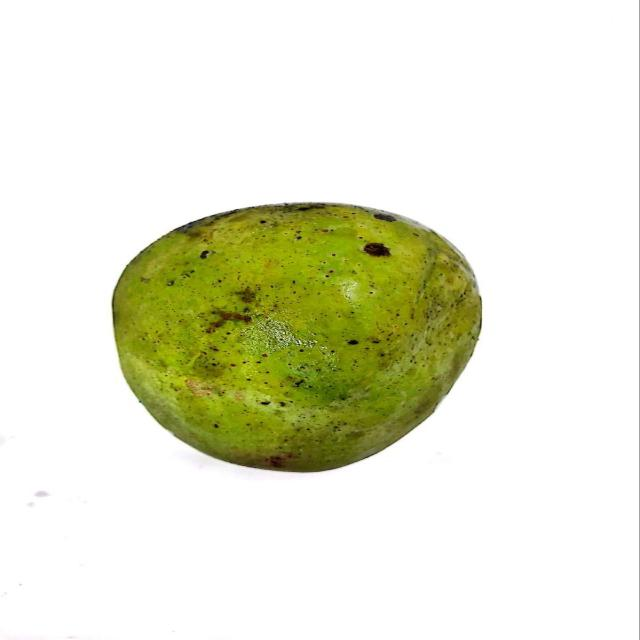fresh_mango: (107, 201, 486, 468)
